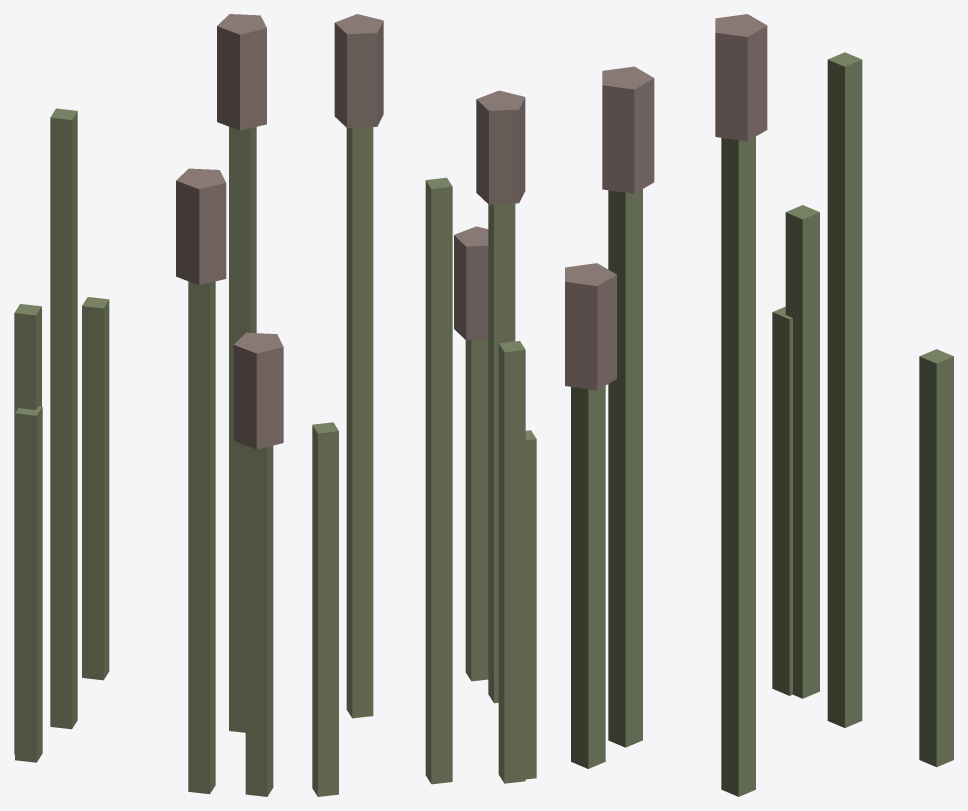
The model's file is junco_sem_textura.glb.
3 views of the same model, side by side, from view 1: azimuth 30°, elevation 25°; view 2: azimuth 150°, elevation 25°; view 3: azimuth 270°, elevation 25° (orthographic). The views are drawn at different scales.
Visible parts, largest first — view 1: junco; view 2: junco; view 3: junco.
Part boxes in pixels (bbox=[...]): junco: bbox=[14, 14, 283, 796]; junco: bbox=[312, 14, 536, 796]; junco: bbox=[565, 14, 953, 796].
Size of the model in its own units: 0.2464 by 0.7329 by 0.338.
